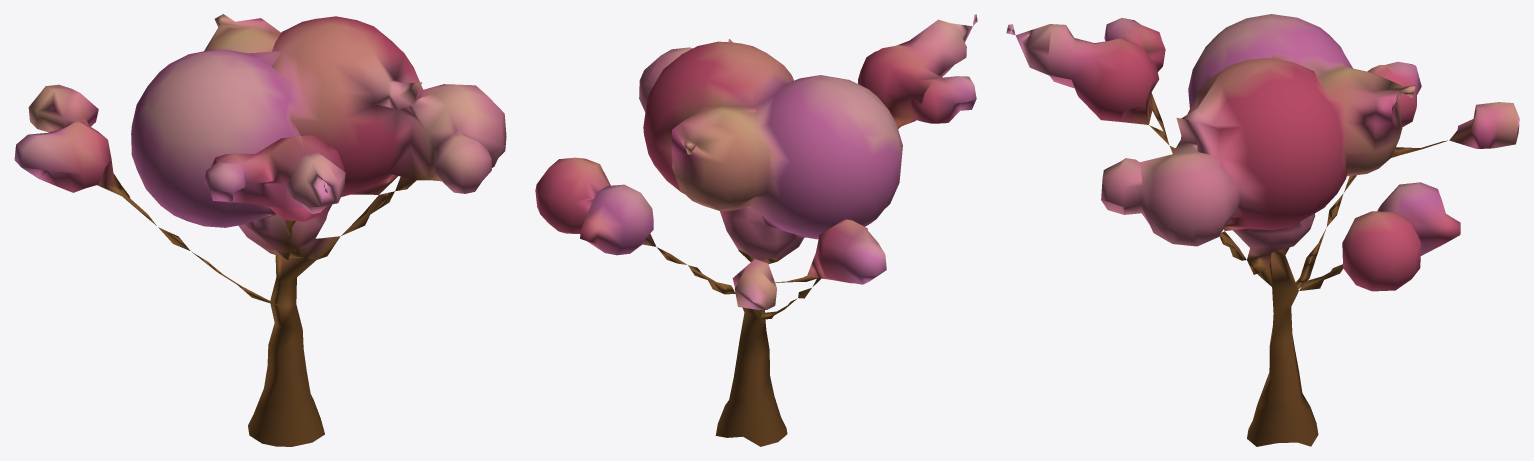
The model's file is canopy-tree-217-lod2.obj.
3 renders of one model, left to right at view 1: azimuth 30°, elevation 25°; view 2: azimuth 150°, elevation 25°; view 3: azimuth 270°, elevation 25°, orthographic. The views are drawn at different scales.
Parts seen in each view (by area): view 1: simplified; view 2: simplified; view 3: simplified.
Boxes of the visible parts, <box> form: simplified: <box>14,14,506,446</box>; simplified: <box>535,14,977,446</box>; simplified: <box>1006,14,1519,446</box>.
Bounding box in the file's own units: 431 × 429 × 515.
